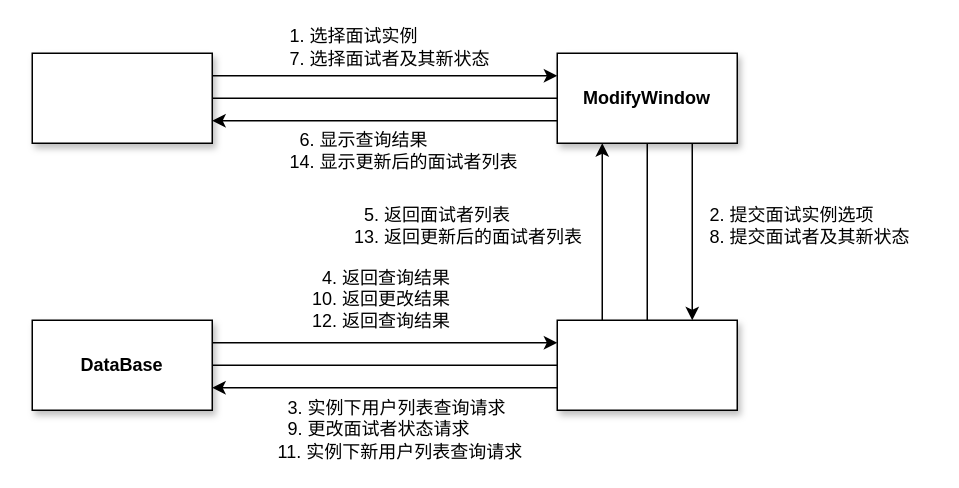
Some shapes in this 959 by 488 pixel diagram are drawn without their labels. Each missing label, with the centre of its shape:
"Controller" belongs at pixel 648 367.
"Interviewer" belongs at pixel 123 100.
